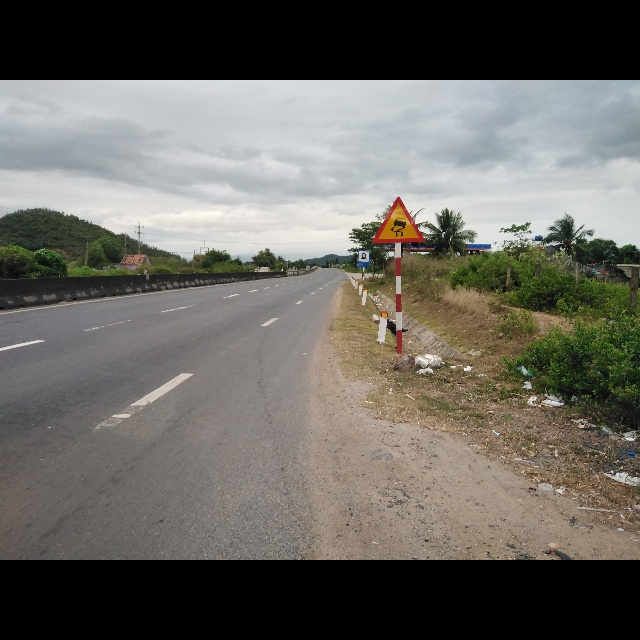Đường trơn trượt: (371, 195, 423, 245)
